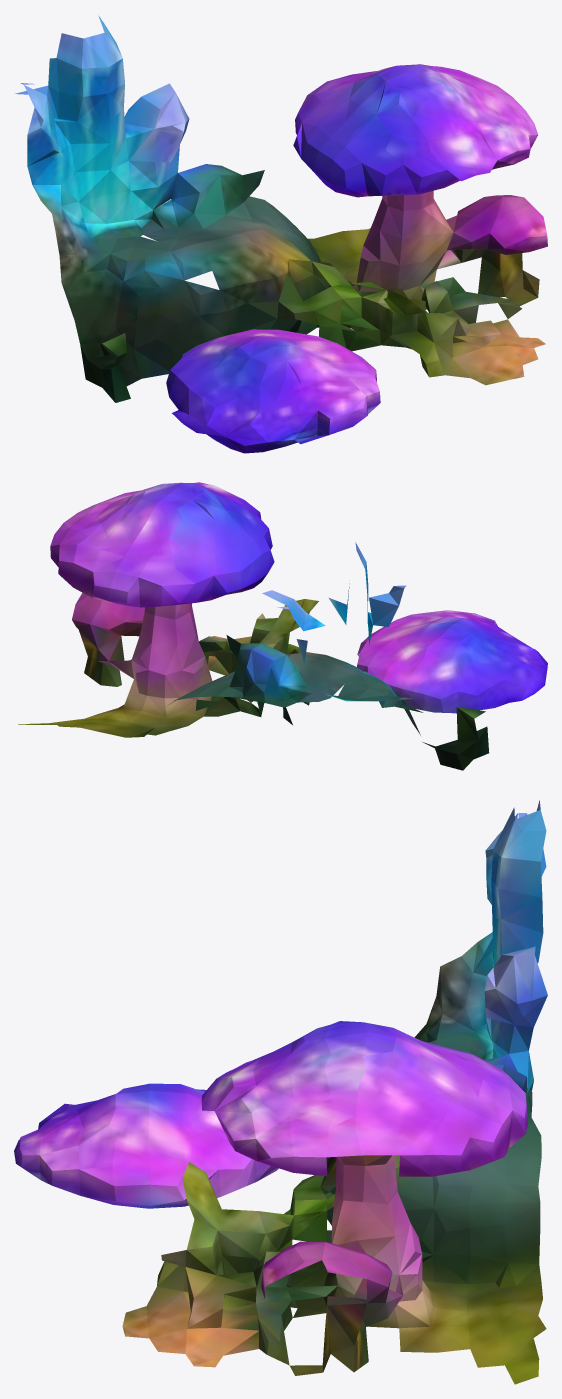
File: cogumelos.glb
3 views of the same model, one above another, from view 1: azimuth 30°, elevation 25°; view 2: azimuth 150°, elevation 25°; view 3: azimuth 270°, elevation 25° (orthographic). The views are drawn at different scales.
Visible parts, largest first — view 1: plush; view 2: plush; view 3: plush.
Boxes of the visible parts, left/top/right/bottom form: plush: left=15, top=15, right=547, bottom=453; plush: left=18, top=482, right=547, bottom=770; plush: left=14, top=800, right=547, bottom=1384.
Size of the model in its own units: 0.953 by 0.6282 by 0.8165.
1 material, 1 textured.
